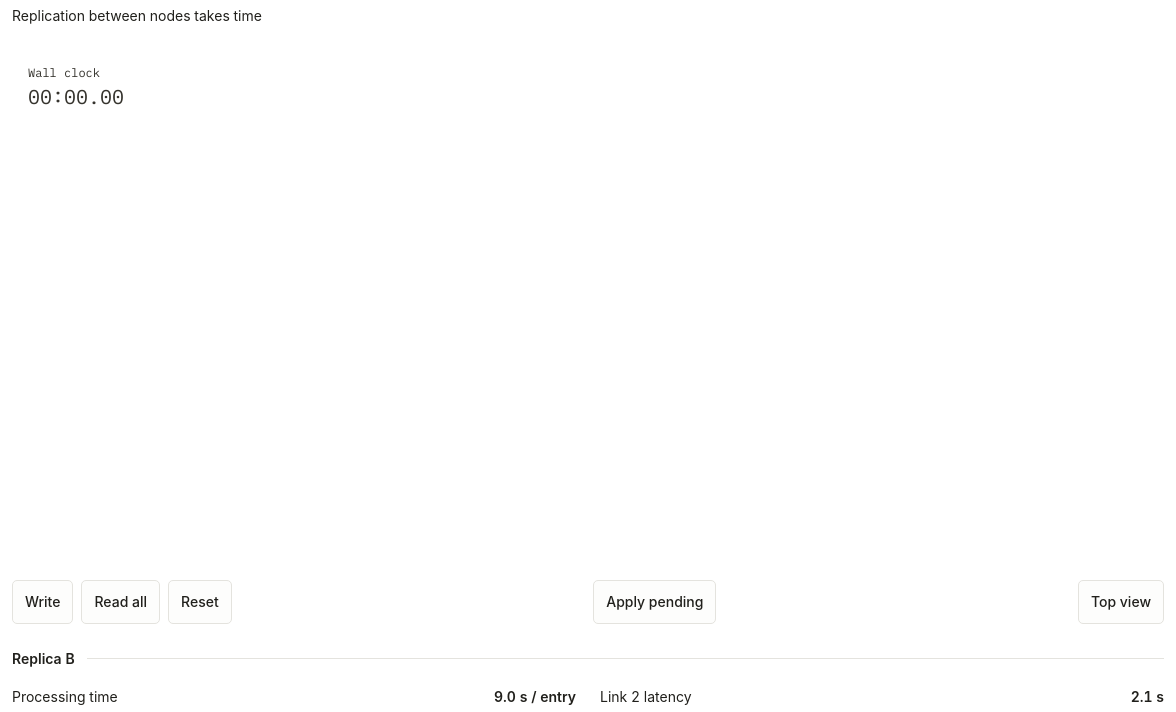
Test: offers discrete writes and queue application under reduced motion
The image size is (1176, 712).
Click the button "Write" at (43, 602), box [12,580,74,624]
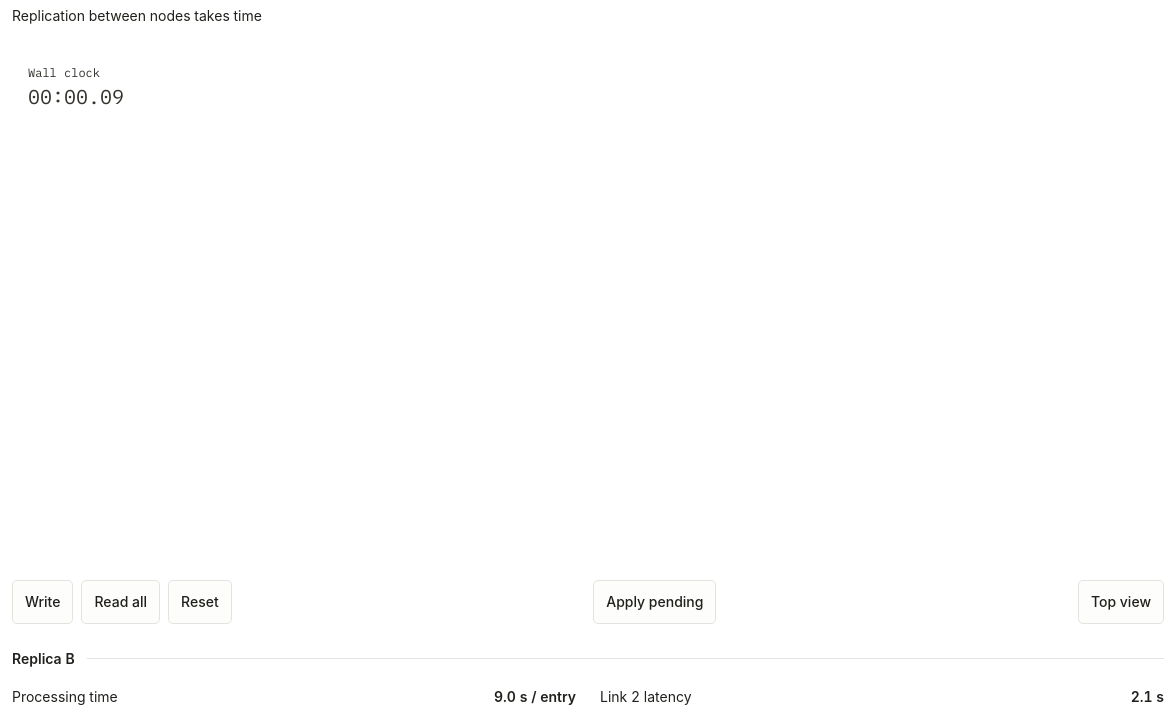
Click the button "Apply pending" at (655, 602), box [593,580,716,624]
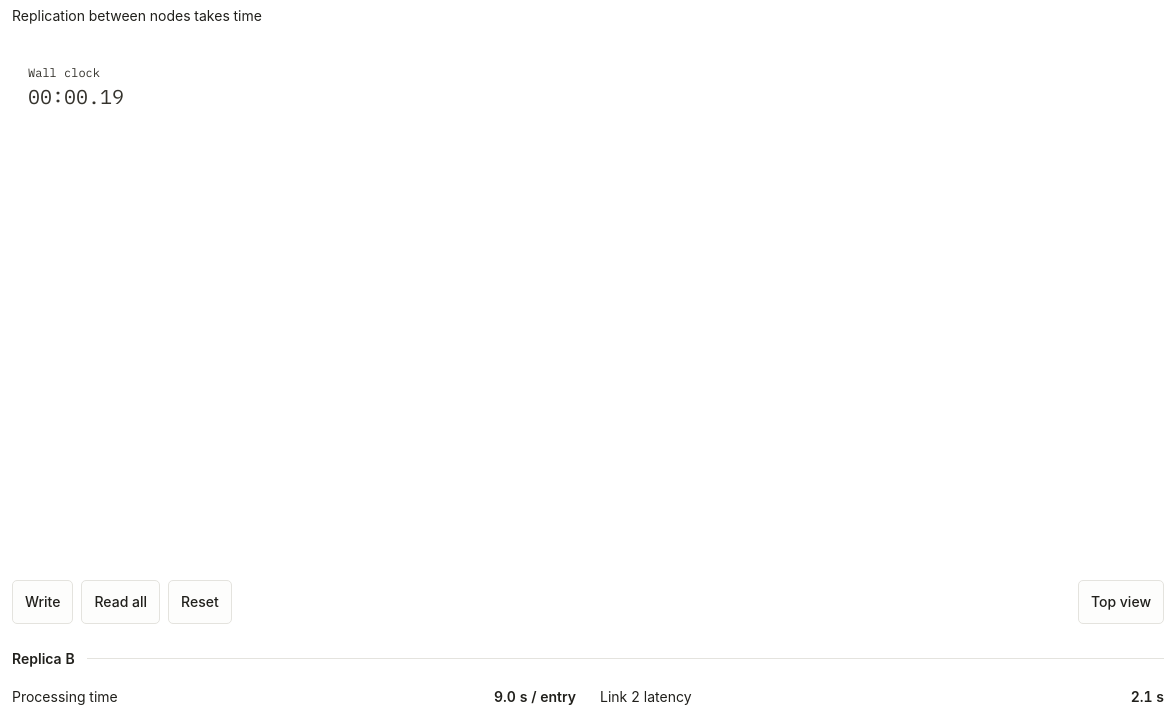
Result: the button "Apply pending" is gone
